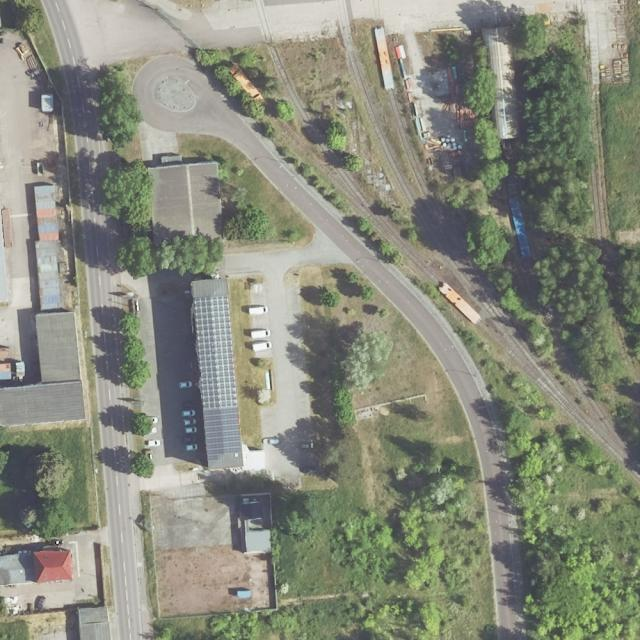PV: (195, 294, 241, 462)
